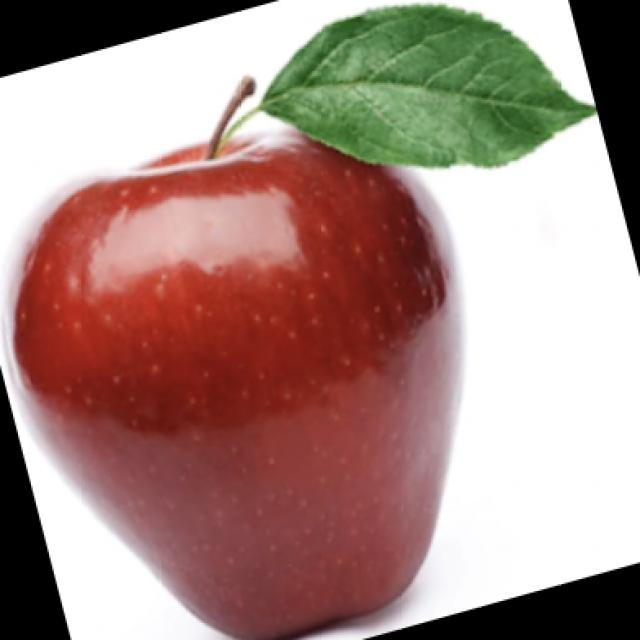Fresh Apple: (18, 140, 455, 640)
